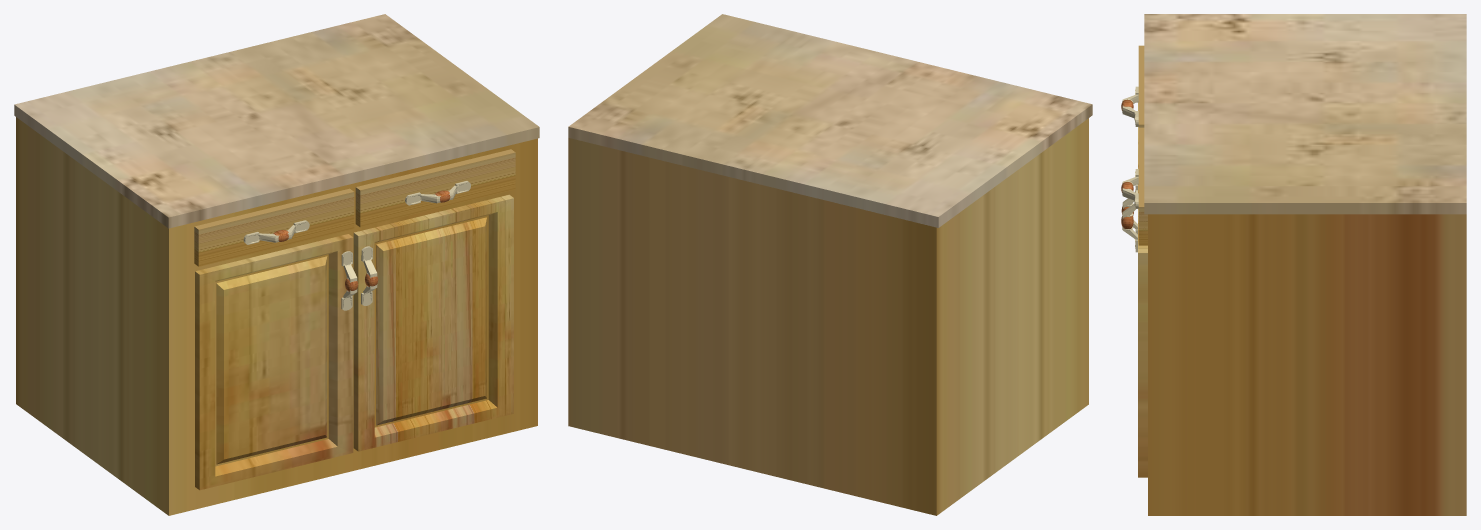
The model's file is 2DoorLowerCabinet.glb.
3 views of the same model, side by side, from view 1: azimuth 30°, elevation 25°; view 2: azimuth 150°, elevation 25°; view 3: azimuth 270°, elevation 25° (orthographic). The views are drawn at different scales.
Visible parts, largest first — view 1: 2DoorLowerCabinet; view 2: 2DoorLowerCabinet; view 3: 2DoorLowerCabinet.
Boxes of the visible parts, x1=… form: 2DoorLowerCabinet: x1=14, y1=14, x2=539, y2=515; 2DoorLowerCabinet: x1=568, y1=14, x2=1092, y2=515; 2DoorLowerCabinet: x1=1121, y1=14, x2=1466, y2=515.
Bounding box in the file's own units: 0.96 × 0.7419 × 0.7419.
Materials: 4 (3 with a texture image).
